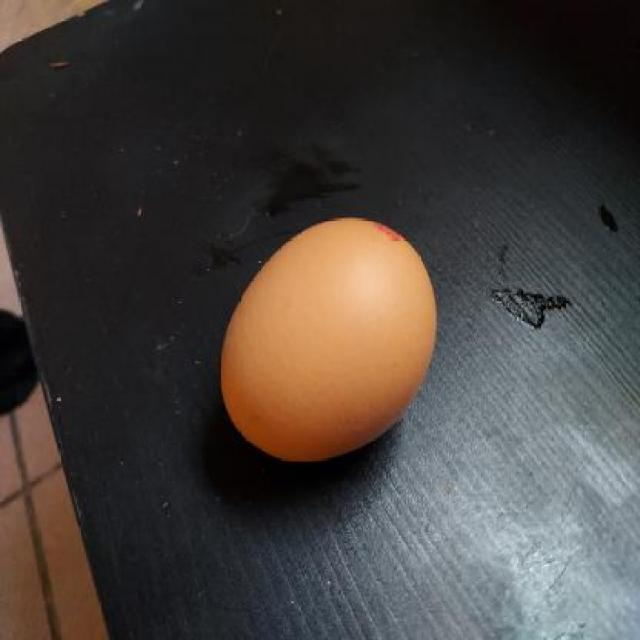biodegradable: (216, 217, 442, 466)
